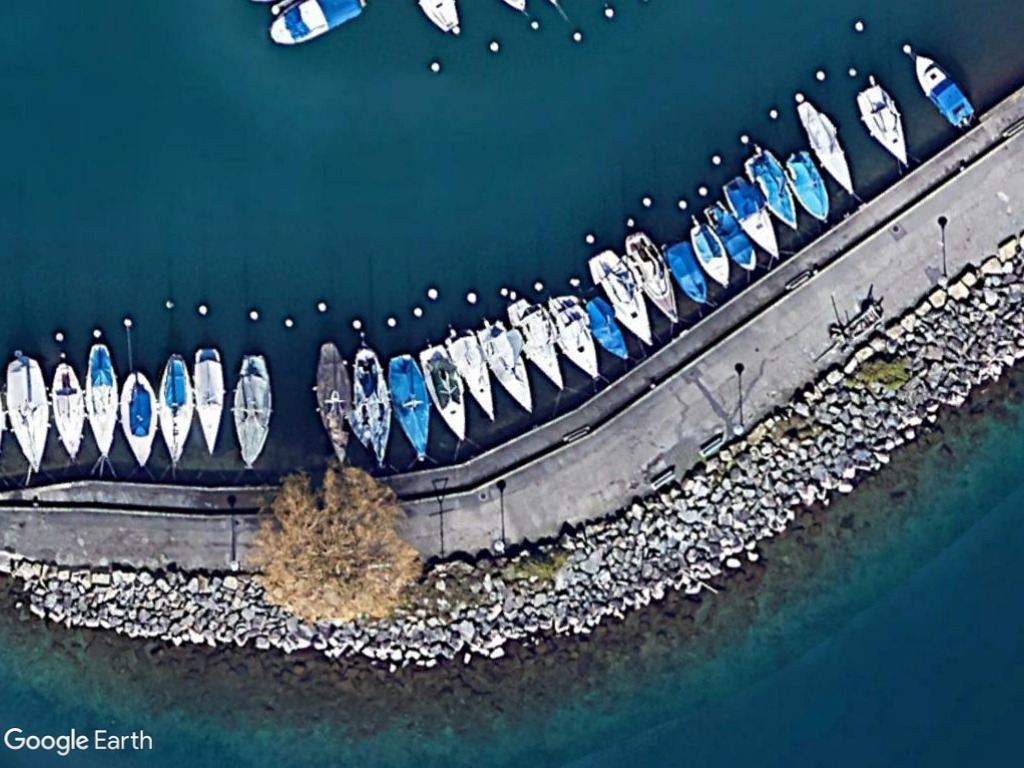boat: (584, 246, 661, 350), (899, 43, 981, 131), (311, 334, 364, 470), (796, 91, 860, 202), (619, 228, 688, 328), (474, 312, 539, 418), (380, 347, 440, 460), (1, 347, 52, 478), (720, 169, 791, 263), (149, 340, 197, 476), (852, 73, 915, 175), (539, 285, 604, 382), (349, 340, 398, 468), (417, 337, 472, 449), (504, 298, 568, 394), (746, 140, 809, 236), (79, 330, 123, 463), (229, 346, 274, 473), (443, 326, 500, 423), (187, 340, 232, 457), (574, 281, 633, 368), (42, 355, 87, 466), (681, 207, 736, 292), (120, 365, 162, 475), (780, 144, 836, 226), (704, 198, 762, 273), (657, 236, 712, 310)
